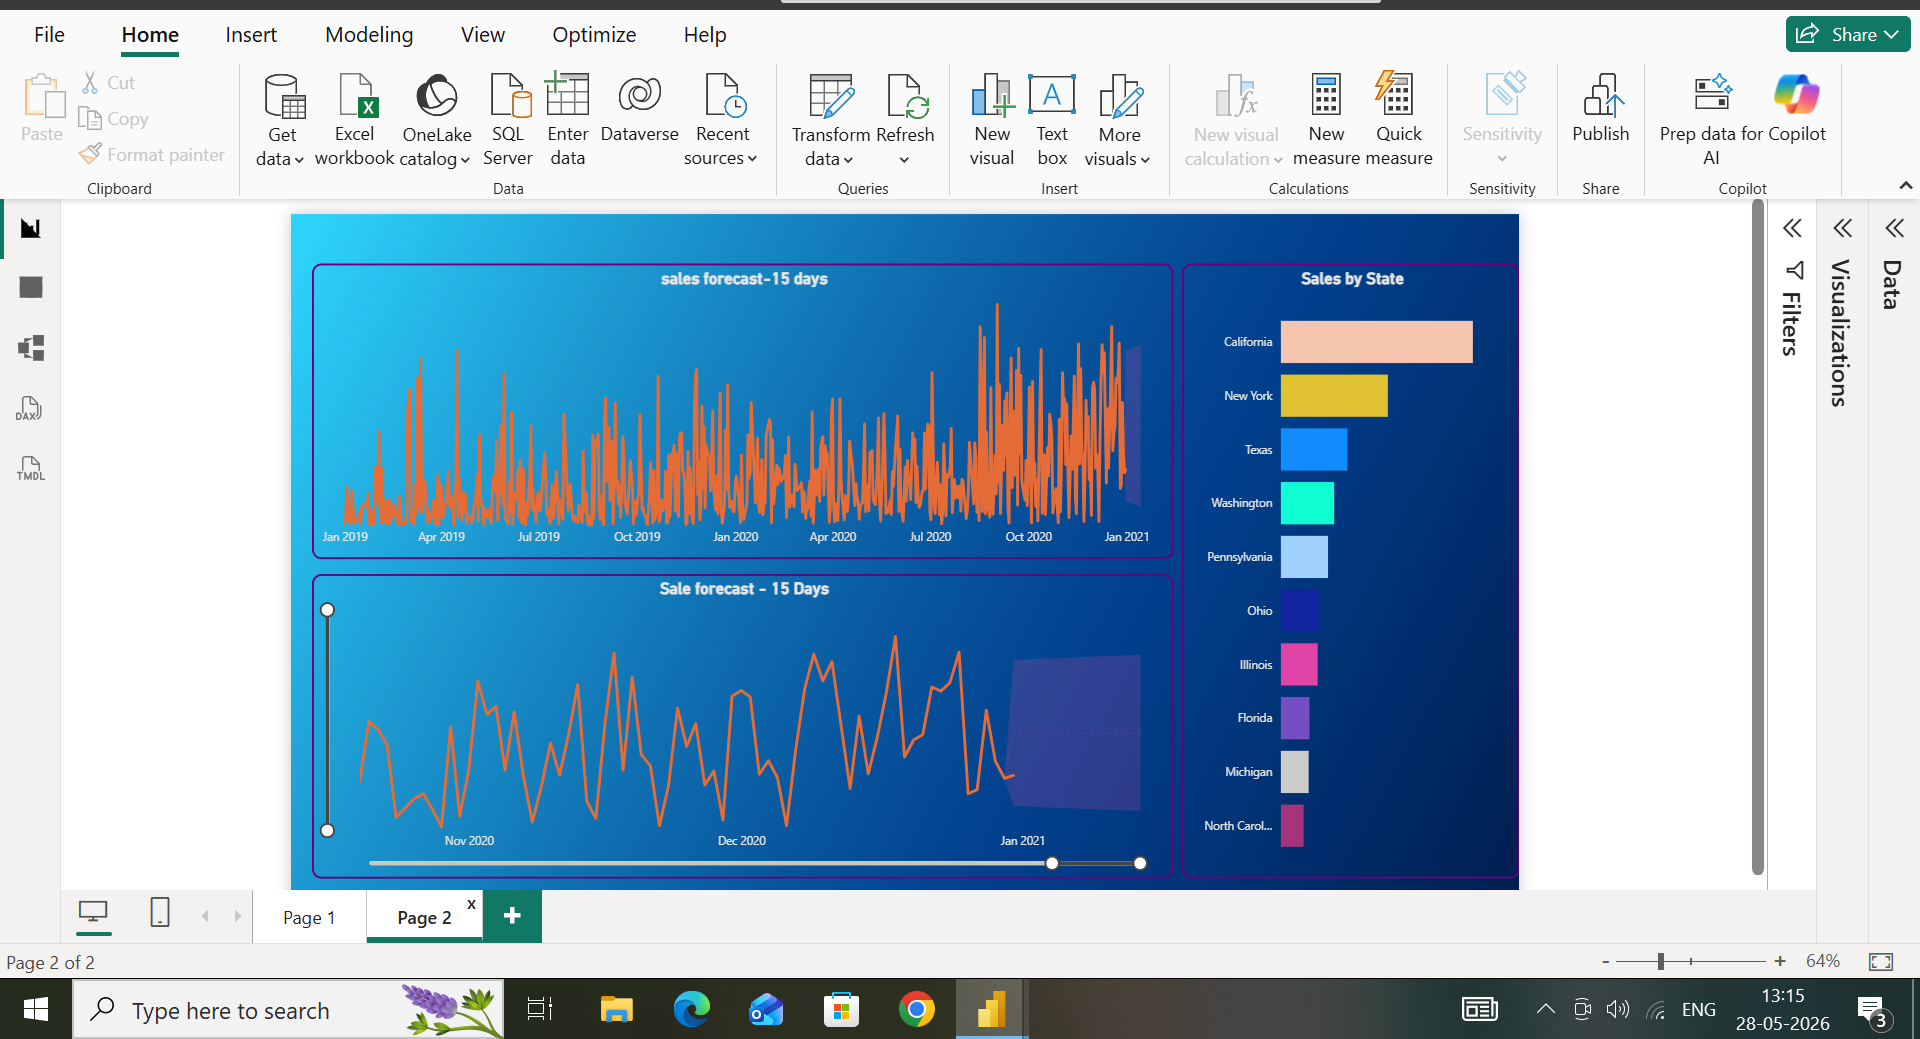

The dashboard page shown, as its layout file describes it:
{"tool":"powerbi","page":{"name":"Page 2","canvas":[1280,720],"ordinal":1},"visuals":[{"type":"lineChart","title":"sales forecast-15 days","fields":{"Y":["Sum(SuperStore_Sales_Dataset.Sales)"],"Category":["SuperStore_Sales_Dataset.Order Date"]},"box":[21.9,51.6,897.2,307.9],"z":0},{"type":"lineChart","title":"Sale forecast - 15 Days","fields":{"Y":["Sum(SuperStore_Sales_Dataset.Sales)"],"Category":["SuperStore_Sales_Dataset.Order Date"]},"box":[21.9,375.1,897.2,317.3],"z":1000},{"type":"clusteredBarChart","title":"Sales by State","fields":{"Category":["SuperStore_Sales_Dataset.State"],"Y":["Sum(SuperStore_Sales_Dataset.Sales)"]},"box":[928.4,51.6,351.7,640.8],"z":2000}]}

Visuals, with their boxes on the page's 1280x720 design canvas (x1, y1, x2, y2). These are canvas units, not pixel positions in the 1920x1039 screenshot, which may show the page scaled, cropped or inside an application window:
"sales forecast-15 days" lineChart: crop(22, 52, 919, 360)
"Sale forecast - 15 Days" lineChart: crop(22, 375, 919, 692)
"Sales by State" clusteredBarChart: crop(928, 52, 1280, 692)
